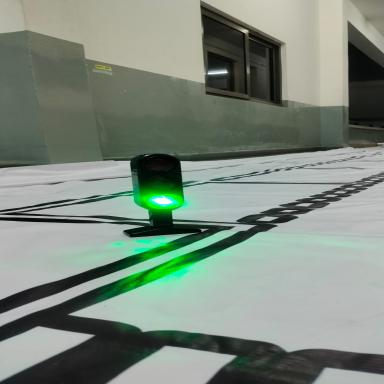green: (116, 149, 217, 222)
